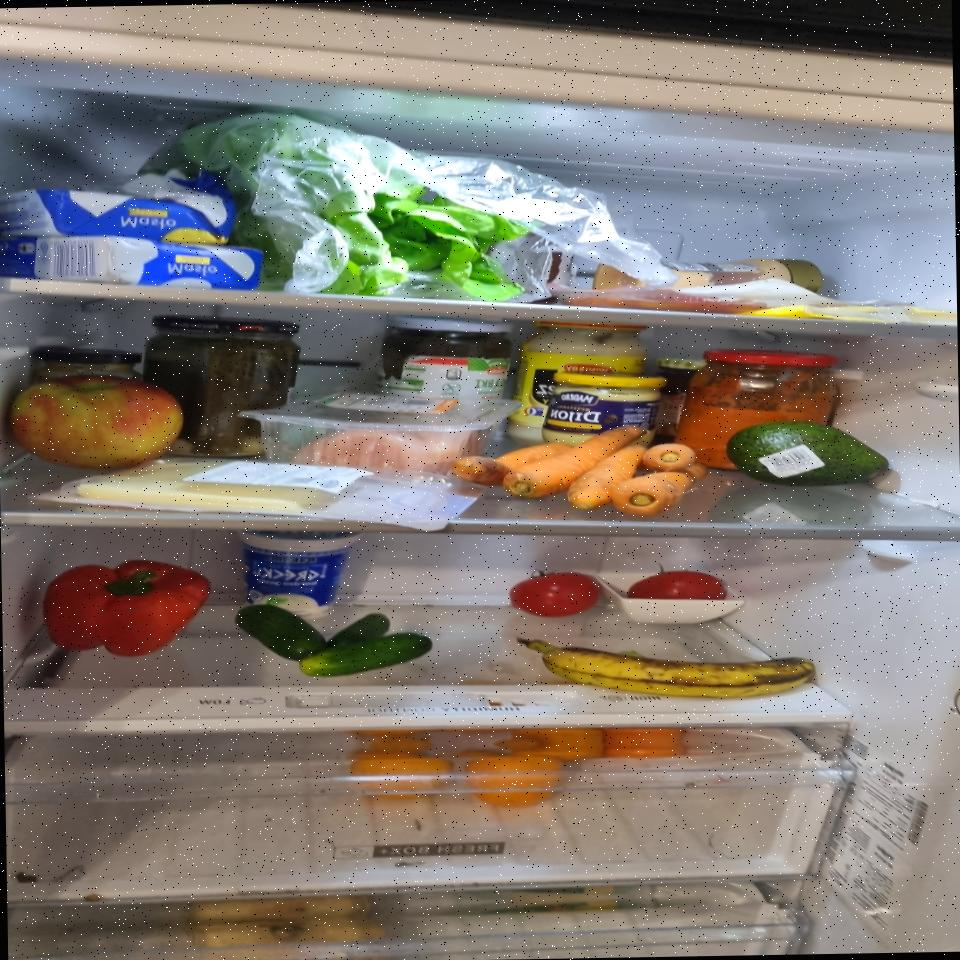Aguacate: (718, 420, 890, 490)
Carne pollo: (252, 390, 514, 474)
Lechuga/Endivia: (215, 123, 562, 295)
Mantequilla: (0, 231, 276, 289), (0, 168, 223, 238)
Manzana: (0, 376, 182, 469)
Pepino: (229, 606, 436, 678)
Plátano: (513, 633, 827, 703)
Queso: (75, 456, 358, 516), (734, 303, 956, 327)
Tomate: (503, 572, 601, 616), (624, 572, 728, 606)
Yogur: (234, 524, 359, 618)
Zanahoria: (452, 426, 706, 519)
